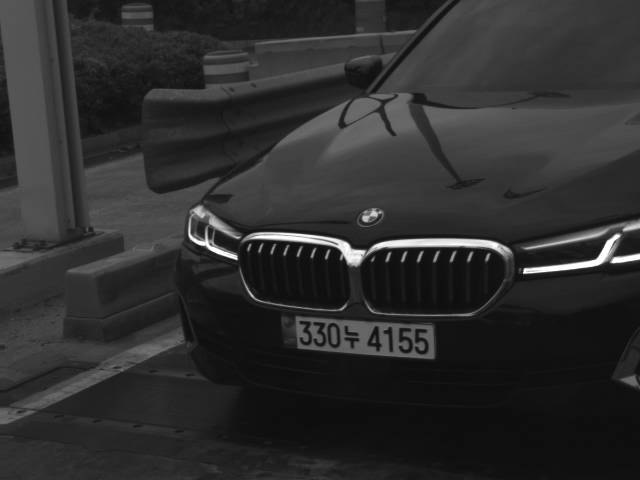car: (174, 1, 638, 427)
plate: (278, 312, 438, 361)
